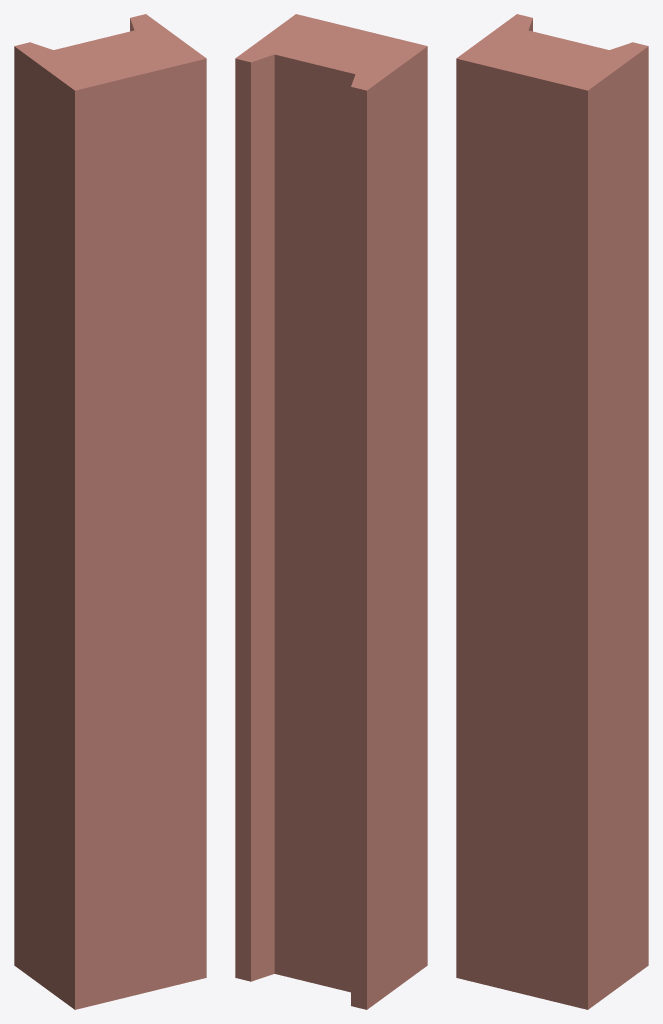
File: BasicWallTrim02.fbx
The picture shows the model from 3 angles, left to right: view 1: azimuth 30°, elevation 25°; view 2: azimuth 150°, elevation 25°; view 3: azimuth 330°, elevation 25°; orthographic projection.
Parts seen in each view (by area): view 1: BasicWallTrim02.002; view 2: BasicWallTrim02.002; view 3: BasicWallTrim02.002.
Part boxes in pixels (<box>): BasicWallTrim02.002: <box>14,14,206,1009</box>; BasicWallTrim02.002: <box>235,14,427,1009</box>; BasicWallTrim02.002: <box>456,14,648,1009</box>.
Size of the model in its own units: 150 by 1000 by 120.
